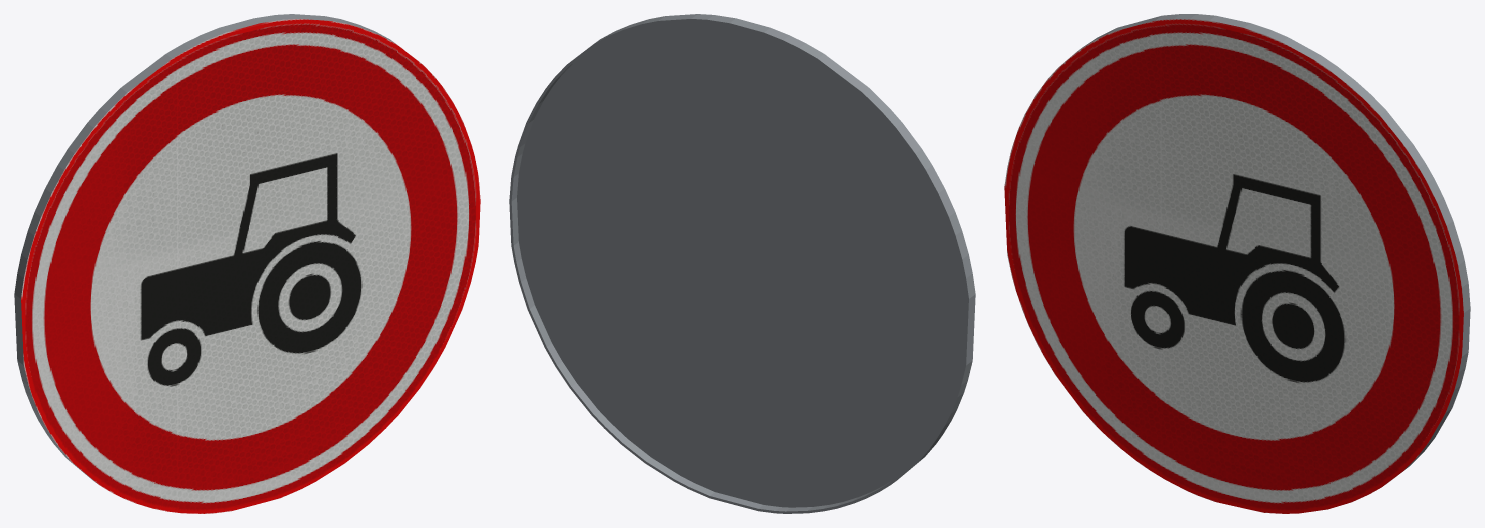
3 views of the same model, side by side, from view 1: azimuth 30°, elevation 25°; view 2: azimuth 150°, elevation 25°; view 3: azimuth 330°, elevation 25° (orthographic).
Visible parts, largest first — view 1: cat_0b05792c3e970b24; view 2: cat_0b05792c3e970b24; view 3: cat_0b05792c3e970b24.
Boxes of the visible parts, x1,y1,x2,y2 form: cat_0b05792c3e970b24: (14, 14, 480, 513); cat_0b05792c3e970b24: (509, 14, 975, 513); cat_0b05792c3e970b24: (1004, 14, 1470, 513).
Size of the model in its own units: 0.6 by 0.015 by 0.6.
2 materials, 1 textured.
